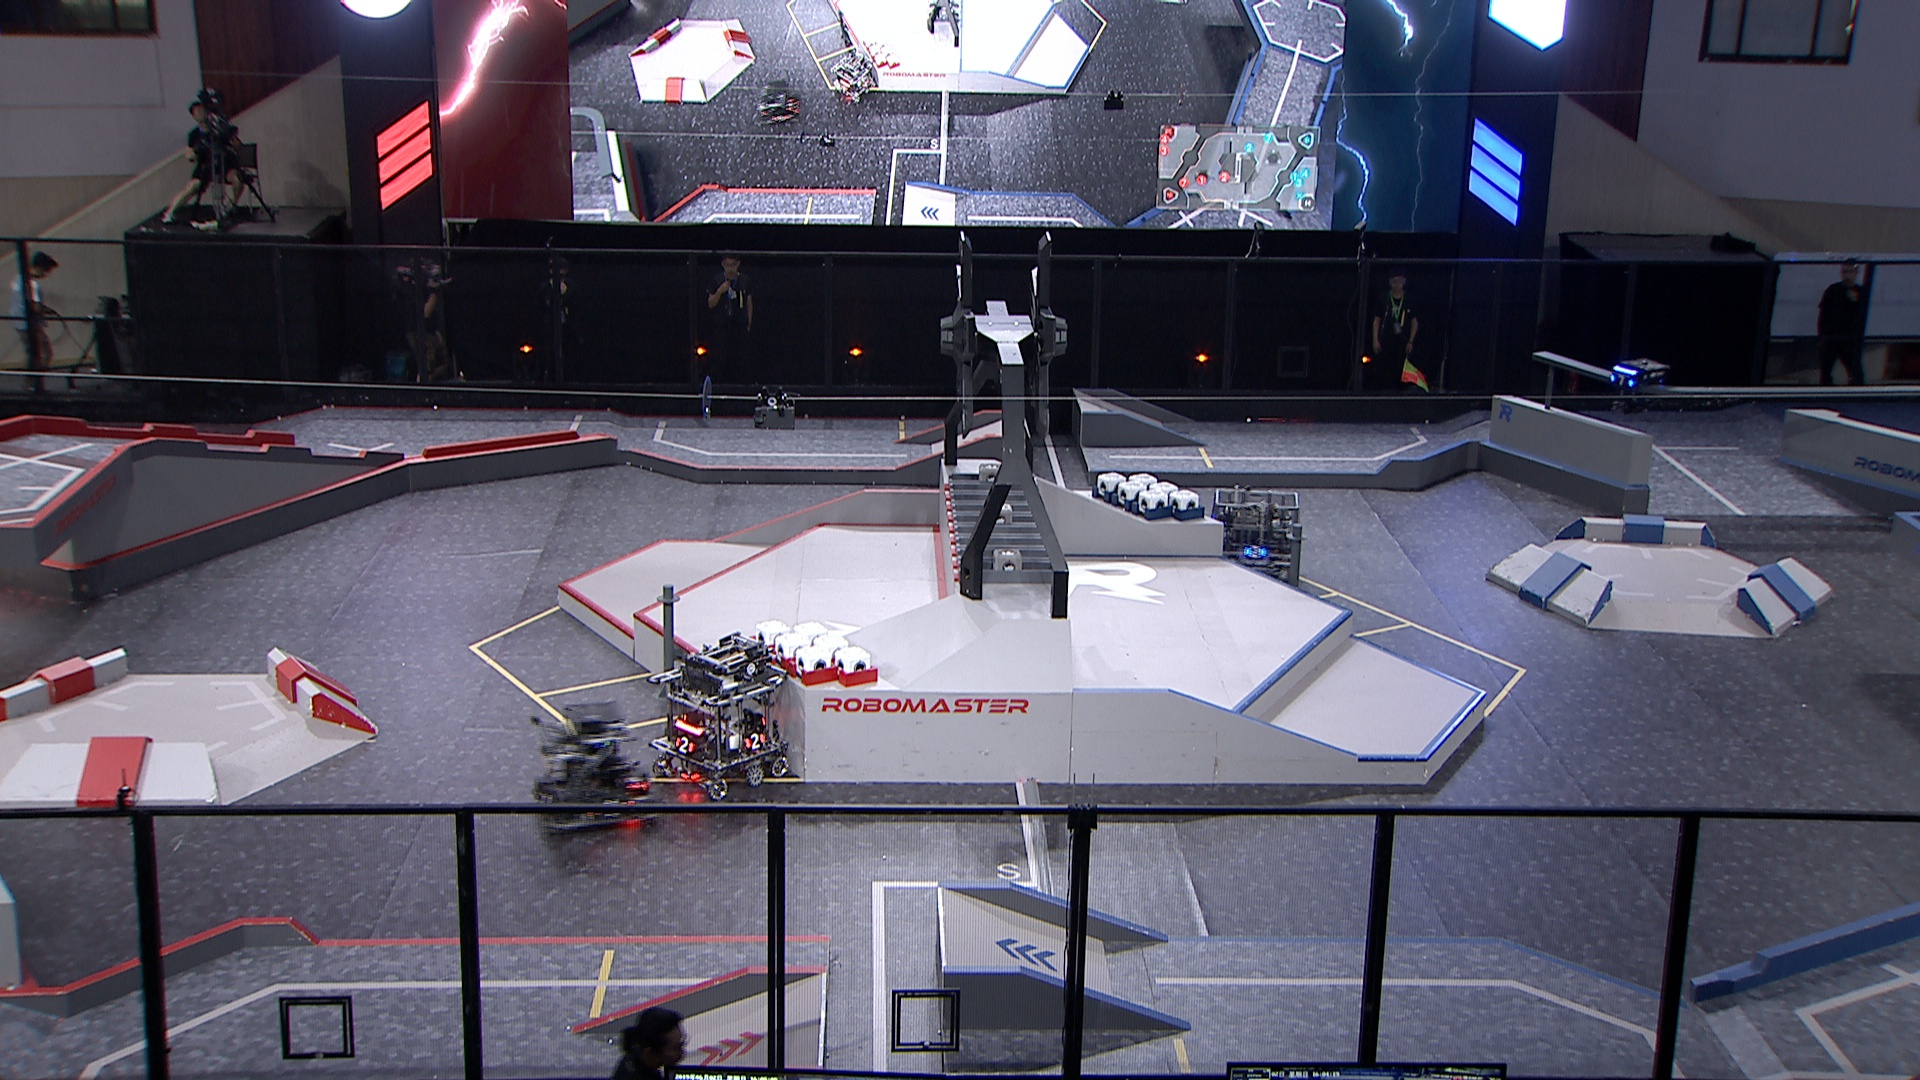armor: (589, 798, 632, 822), (742, 731, 767, 752), (1609, 372, 1636, 390), (622, 771, 646, 793), (674, 733, 695, 756), (533, 790, 558, 807)
car: (647, 632, 790, 802), (531, 702, 657, 836), (1209, 487, 1302, 583)
ignore: (831, 50, 880, 102), (754, 80, 800, 124)
watcher: (1609, 357, 1669, 415)
